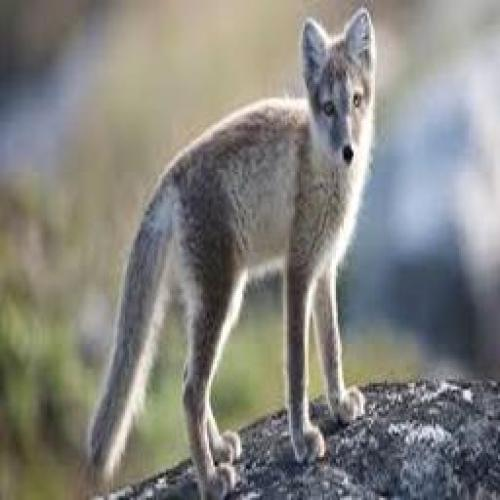arctic_fox-endangered: (88, 7, 374, 500)
